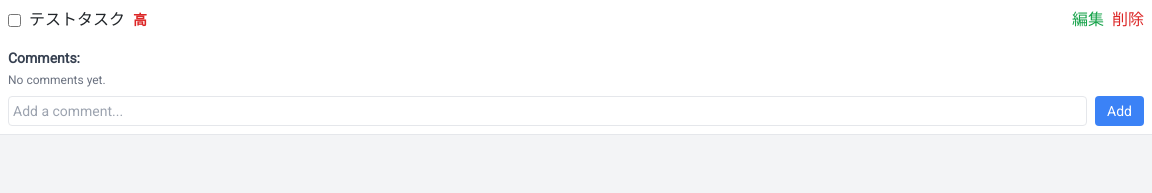
TodoItem › 編集モードの切り替えが機能する
Note: 編集ボタンをクリック
Click the button "編集": {"x": 1088, "y": 20} 1072,8 -> 1104,32
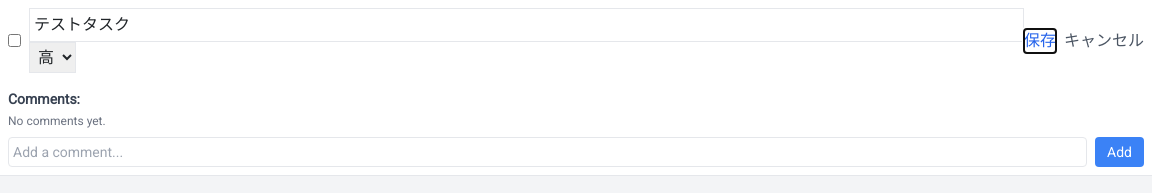
Expected: the field showing "テストタスク" is shown, 29,8 -> 1024,42
Expected: the dropdown is shown, 29,42 -> 76,73
Expected: the button "保存" is shown, 1024,28 -> 1056,52
